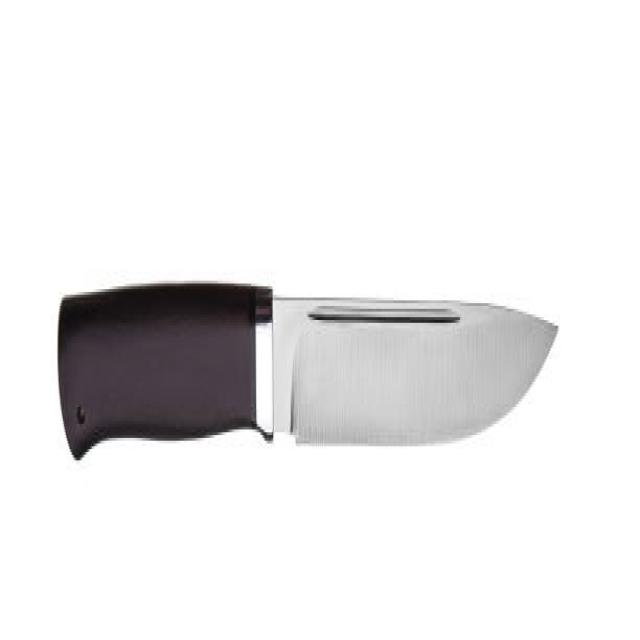knife: (49, 268, 562, 486)
